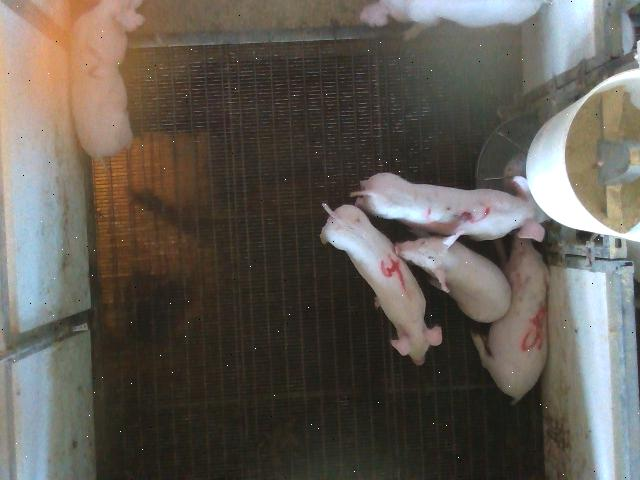pig-3: (351, 173, 548, 241)
pig-4: (321, 204, 442, 365)
pig-5: (472, 237, 549, 404)
